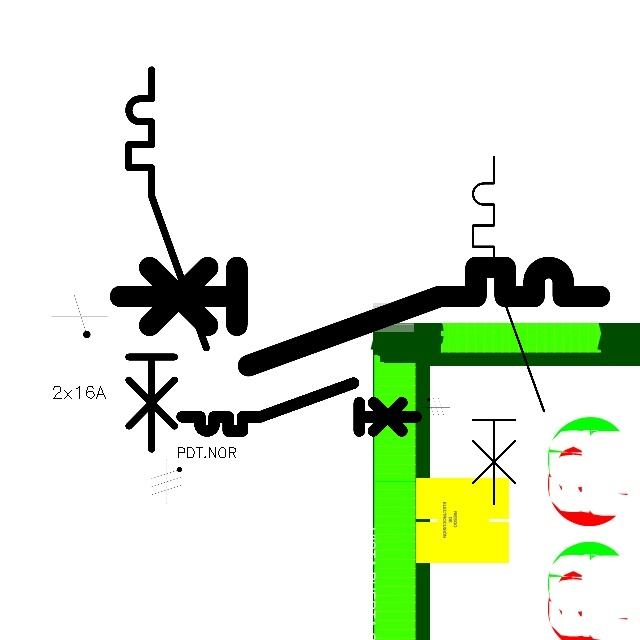interruptor_termomagnetico: (107, 255, 611, 378), (119, 60, 216, 459), (464, 148, 553, 513), (176, 377, 422, 437)
